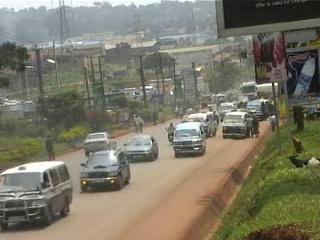Car: (77, 148, 133, 192), (124, 129, 159, 165), (79, 129, 118, 158)
Motorcycle: (163, 120, 179, 146)
